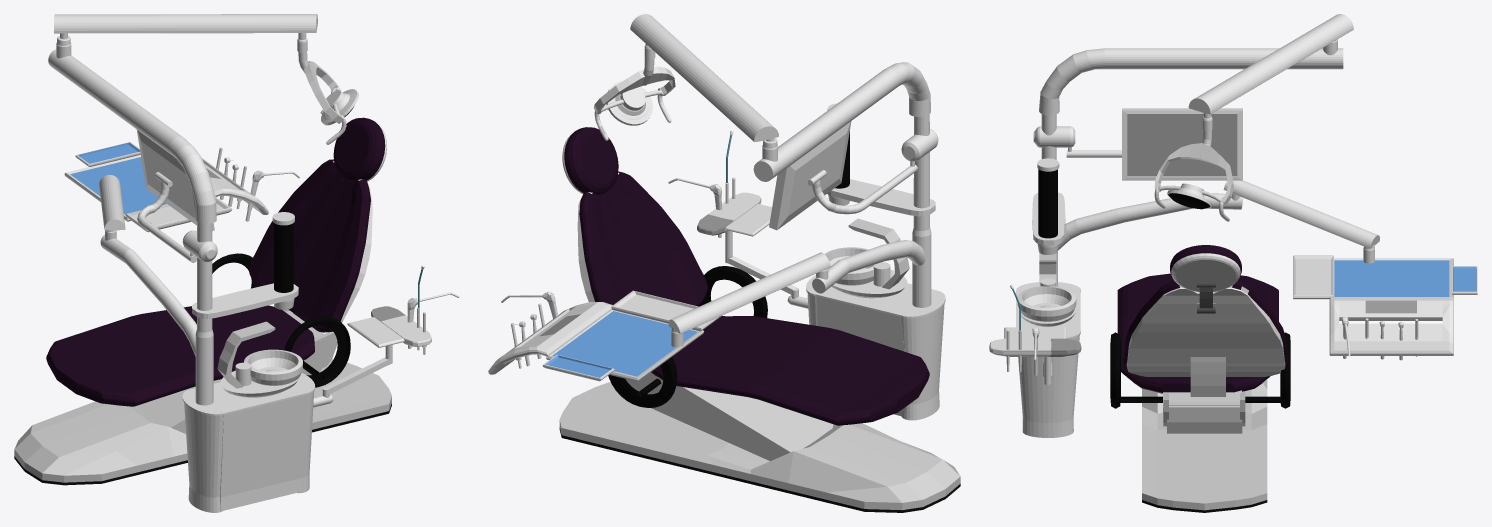
File: dental_chair_ostem.glb
3 renders of one model, left to right at view 1: azimuth 30°, elevation 25°; view 2: azimuth 150°, elevation 25°; view 3: azimuth 270°, elevation 25°, orthographic. The views are drawn at different scales.
Visible parts, largest first — view 1: Cube.052_2; view 2: Cube.052_2; view 3: Cube.052_2.
Boxes of the visible parts, left/top/right/bottom form: Cube.052_2: left=14, top=14, right=459, bottom=512; Cube.052_2: left=488, top=14, right=960, bottom=512; Cube.052_2: left=989, top=14, right=1477, bottom=512.
Bounding box in the file's own units: 40.6 × 42.37 × 48.99.
